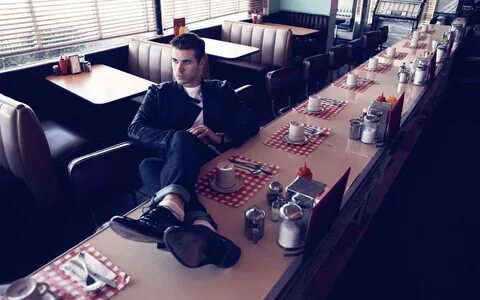awake: (109, 32, 261, 270)
